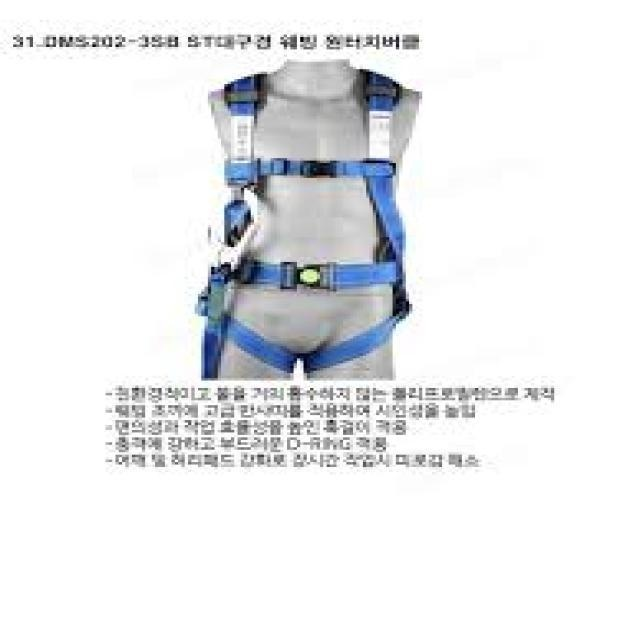Arnes_seguridad: (196, 74, 416, 375)
